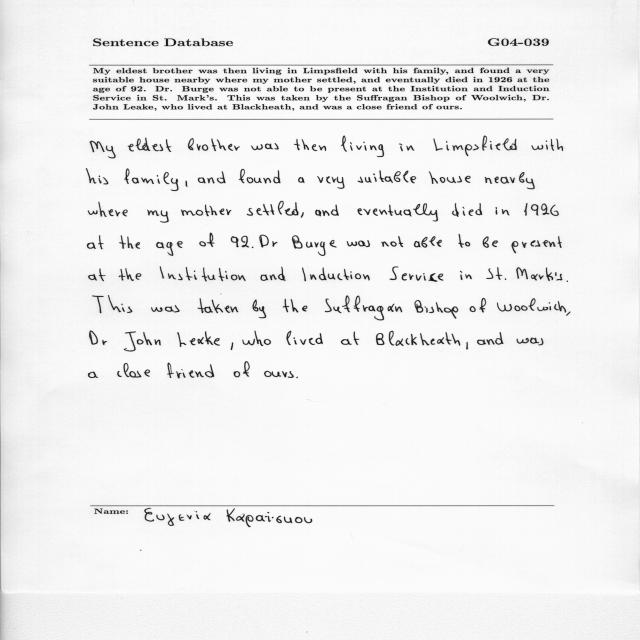word: (325, 296, 402, 321), (434, 136, 517, 156), (357, 204, 438, 222), (160, 267, 245, 282), (124, 168, 179, 191), (376, 331, 460, 346), (497, 299, 566, 313), (90, 331, 136, 352), (302, 268, 370, 282), (341, 136, 384, 157), (511, 236, 562, 253), (485, 172, 535, 189), (390, 267, 443, 282), (415, 300, 459, 318), (247, 201, 298, 216), (358, 171, 416, 184), (168, 363, 215, 378), (177, 331, 220, 347), (93, 296, 133, 313), (188, 138, 240, 151), (128, 137, 171, 152), (516, 267, 562, 281), (259, 235, 303, 249), (239, 169, 280, 184), (198, 298, 239, 313), (89, 202, 128, 217), (181, 205, 231, 216), (429, 171, 471, 184), (286, 331, 323, 345), (306, 240, 337, 256), (117, 363, 150, 378), (524, 203, 559, 216), (90, 141, 116, 158), (242, 331, 271, 346), (452, 203, 482, 217), (156, 241, 183, 256), (294, 139, 326, 151), (531, 139, 563, 151), (198, 171, 226, 184), (317, 176, 345, 189), (87, 169, 109, 185), (477, 332, 504, 345), (261, 267, 286, 281), (283, 299, 308, 313), (414, 236, 442, 248), (137, 332, 161, 345), (119, 235, 140, 249), (147, 210, 169, 223), (119, 268, 141, 281), (315, 205, 339, 216), (487, 267, 507, 280), (234, 362, 250, 378), (253, 300, 266, 319), (382, 236, 404, 247), (470, 298, 486, 313), (87, 236, 104, 250), (341, 332, 359, 345), (151, 305, 180, 313), (231, 236, 249, 248), (517, 338, 544, 346), (200, 233, 215, 247), (264, 371, 294, 378), (89, 269, 106, 281), (251, 143, 279, 150), (483, 236, 498, 248), (458, 234, 470, 248), (347, 240, 370, 247), (399, 144, 414, 152), (496, 207, 510, 215), (460, 271, 472, 280), (88, 371, 98, 378), (298, 177, 305, 183), (566, 311, 571, 316), (301, 212, 304, 218), (231, 342, 233, 350), (466, 342, 468, 349), (186, 181, 188, 187), (566, 280, 568, 282), (296, 377, 298, 378), (252, 247, 253, 248)
